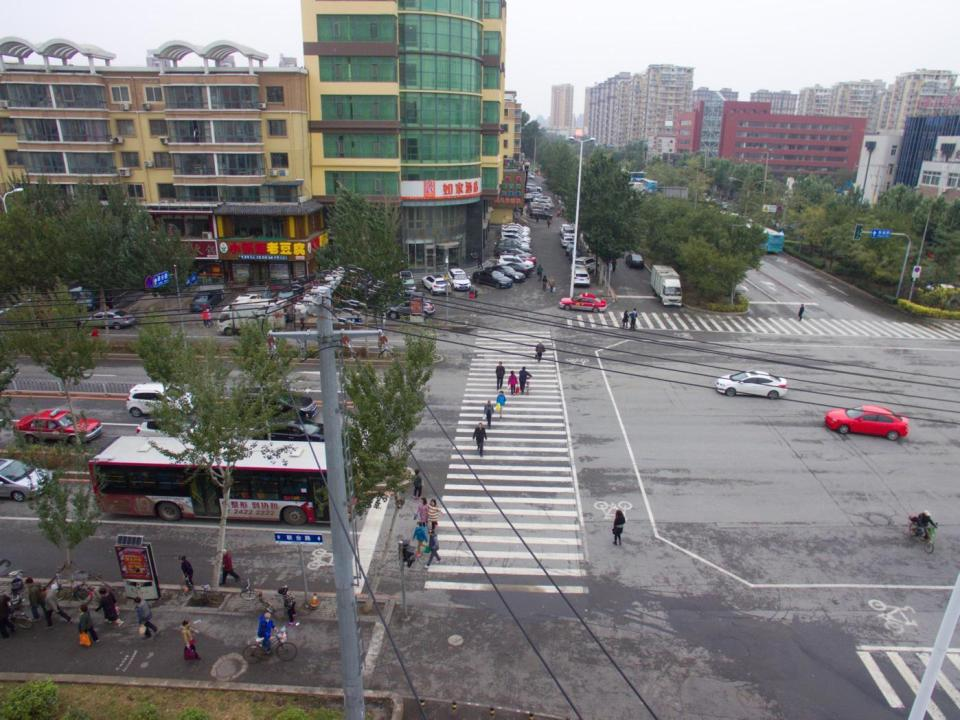bus: (88, 434, 357, 523), (744, 218, 783, 254), (640, 178, 659, 194), (630, 171, 654, 183)
car: (824, 402, 908, 441), (13, 408, 103, 444), (234, 384, 316, 418), (126, 384, 198, 417), (256, 417, 336, 445), (0, 458, 53, 500), (715, 370, 790, 397), (136, 418, 205, 440), (76, 281, 112, 311), (558, 292, 606, 314), (85, 310, 135, 327), (382, 300, 434, 316), (472, 270, 513, 290), (190, 288, 223, 310), (422, 273, 451, 296), (490, 266, 528, 282), (447, 268, 470, 294), (499, 255, 534, 270), (499, 248, 535, 262), (231, 294, 262, 310), (495, 240, 532, 253), (574, 258, 600, 276), (278, 284, 304, 301), (499, 231, 532, 244), (506, 261, 534, 276), (501, 222, 530, 234), (626, 252, 644, 271), (502, 227, 529, 239), (927, 282, 957, 292), (573, 270, 591, 286), (530, 209, 552, 218), (560, 235, 576, 247), (527, 183, 543, 195), (529, 204, 550, 212), (563, 227, 578, 238), (534, 200, 552, 208), (525, 191, 543, 199), (559, 225, 570, 237), (568, 250, 582, 259), (534, 197, 552, 204), (525, 173, 534, 179)
truck: (650, 263, 685, 309)
van: (218, 304, 288, 330), (399, 272, 416, 298), (575, 256, 595, 273), (622, 183, 644, 193)
